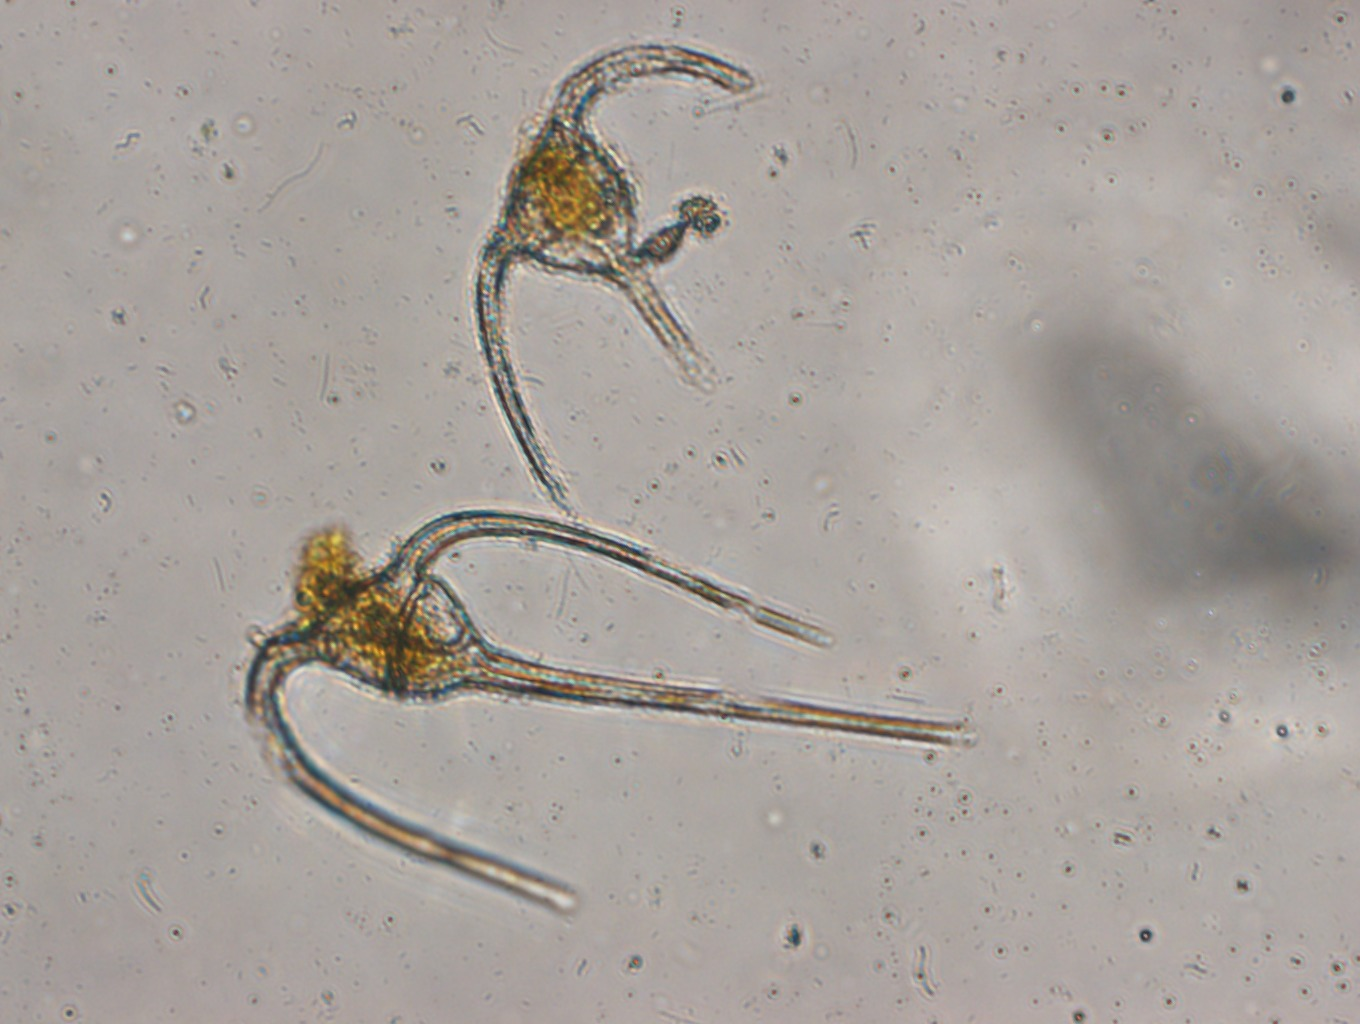ceratium trichoceros: (225, 499, 983, 918), (464, 27, 760, 512)
